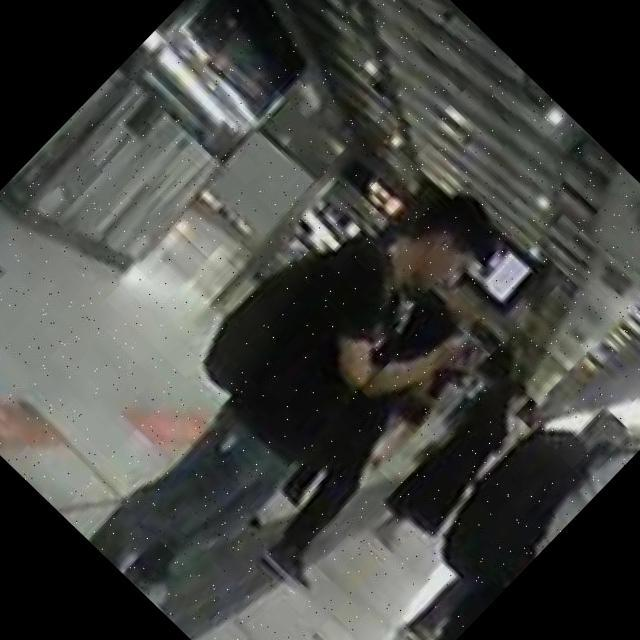person: (49, 133, 561, 640), (199, 246, 551, 604), (302, 339, 640, 640), (364, 369, 640, 640), (348, 356, 553, 564)
